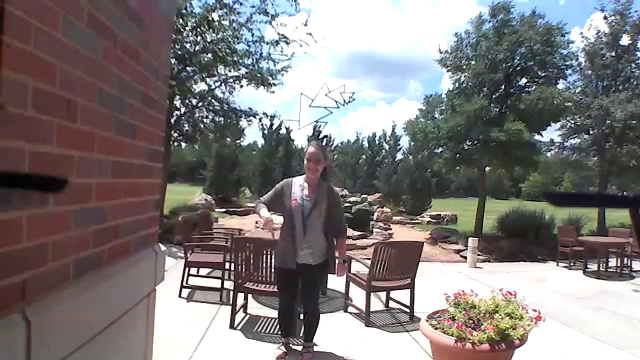down: (260, 213, 276, 245)
